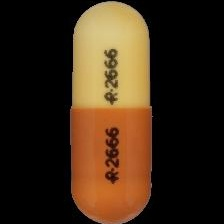67544-353: (0, 0, 224, 224)
